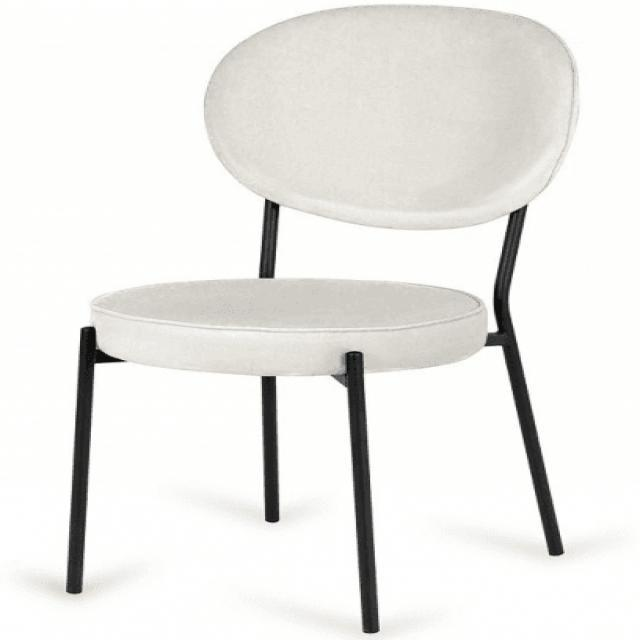chair: (58, 0, 580, 635), (86, 0, 568, 376)
